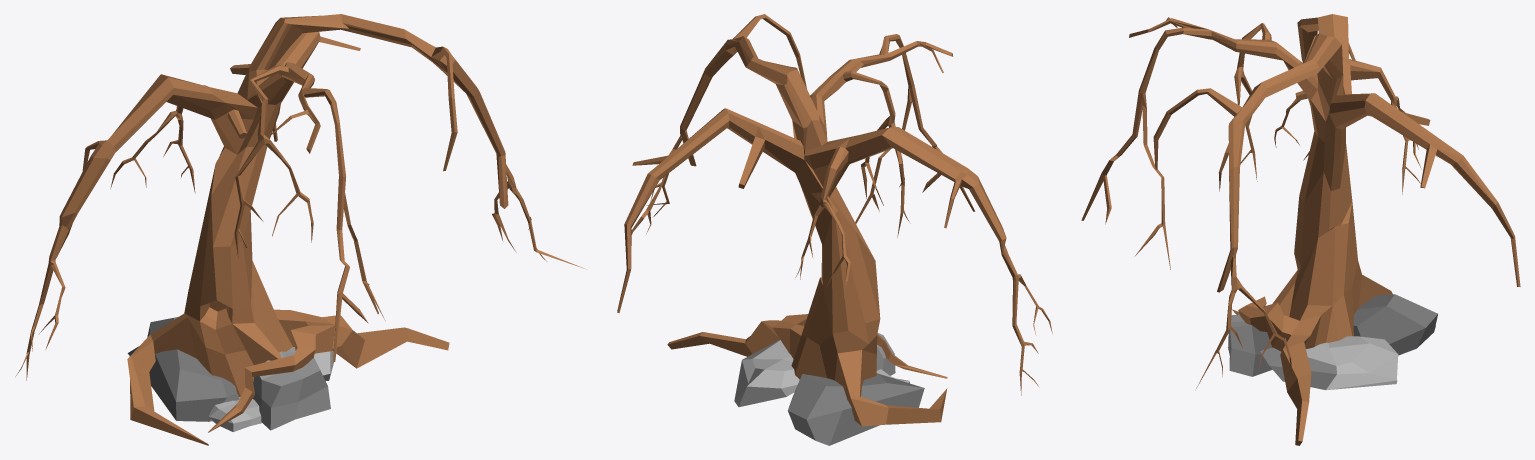
Rendered from huge_tree_basic_grey_model_colored_lights1.fbx.
3 views of the same model, side by side, from view 1: azimuth 30°, elevation 25°; view 2: azimuth 150°, elevation 25°; view 3: azimuth 270°, elevation 25° (orthographic). The views are drawn at different scales.
Visible parts, largest first — view 1: Tree, Cube.001, Cube.002, Cube.003; view 2: Tree, Cube.001, Cube.004; view 3: Tree, Cube.004, Cube.001, Cube.002.
Boxes of the visible parts, left/top/right/bottom form: Tree: left=15, top=14, right=586, bottom=445; Cube.001: left=127, top=316, right=239, bottom=421; Cube.002: left=252, top=351, right=330, bottom=430; Cube.003: left=208, top=397, right=261, bottom=431; Tree: left=617, top=14, right=1052, bottom=426; Cube.001: left=787, top=373, right=924, bottom=445; Cube.004: left=734, top=339, right=799, bottom=407; Tree: left=1081, top=14, right=1520, bottom=445; Cube.004: left=1260, top=336, right=1398, bottom=390; Cube.001: left=1353, top=294, right=1437, bottom=355; Cube.002: left=1228, top=314, right=1272, bottom=376.
Size of the model in its own units: 4388 by 2997 by 3419.
